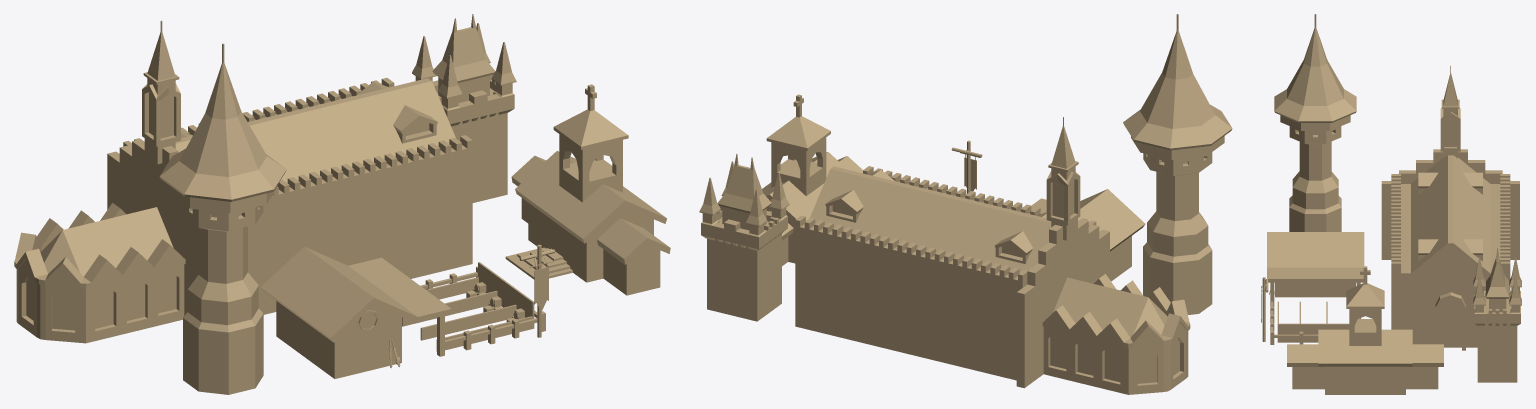
Rendered from Castle.fbx.
3 renders of one model, left to right at view 1: azimuth 30°, elevation 25°; view 2: azimuth 150°, elevation 25°; view 3: azimuth 270°, elevation 25°, orthographic. The views are drawn at different scales.
Parts seen in each view (by area): view 1: castle_GEO; view 2: castle_GEO; view 3: castle_GEO.
Part boxes in pixels (x1,y1,x2,y2): castle_GEO: (14,14,670,394); castle_GEO: (699,14,1232,394); castle_GEO: (1261,14,1521,394).
Bounding box in the file's own units: 974 × 569 × 579.
